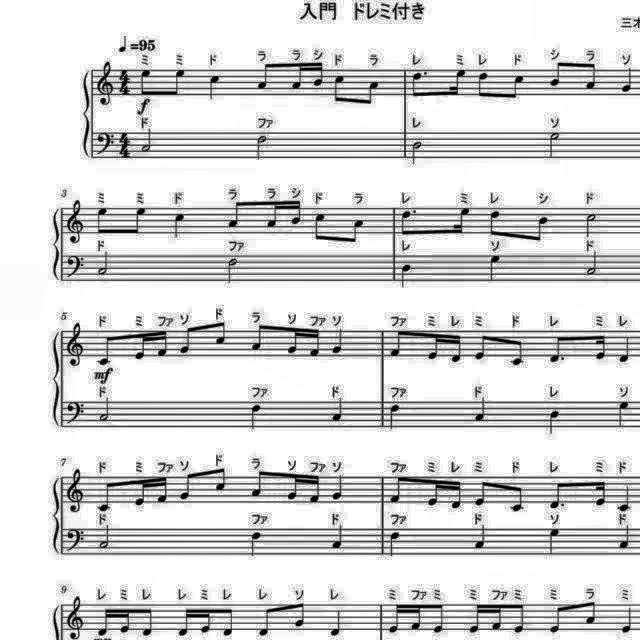Bass-clef: (64, 399, 88, 429), (64, 526, 88, 554), (64, 252, 88, 280), (95, 130, 116, 156)
Eighth-note: (92, 332, 116, 368), (94, 478, 115, 516), (344, 216, 368, 248), (528, 214, 552, 246), (548, 334, 572, 366), (129, 203, 151, 237), (223, 198, 245, 232), (396, 206, 419, 238), (310, 210, 330, 246), (257, 604, 277, 640), (548, 480, 570, 512), (509, 602, 527, 638), (548, 606, 568, 638), (506, 484, 526, 516), (506, 70, 526, 102), (470, 477, 490, 509), (506, 337, 526, 369), (90, 206, 110, 238), (250, 470, 270, 502), (256, 61, 276, 93), (360, 78, 380, 109), (139, 606, 157, 640), (218, 606, 236, 640), (331, 73, 349, 107), (469, 602, 486, 638), (172, 66, 190, 100), (175, 606, 193, 640), (388, 474, 407, 506), (548, 60, 568, 90), (486, 209, 506, 239), (137, 65, 155, 98), (429, 603, 446, 637), (177, 472, 195, 504), (177, 324, 195, 356), (289, 598, 307, 630), (471, 332, 489, 364), (411, 68, 429, 100), (473, 68, 491, 100), (251, 324, 269, 356), (388, 326, 406, 358), (212, 466, 230, 496), (212, 320, 230, 350), (583, 62, 601, 92), (583, 598, 601, 626)
Half-note: (582, 211, 602, 241), (546, 130, 566, 160), (224, 256, 243, 286), (95, 250, 113, 278), (96, 396, 114, 424), (255, 134, 273, 162), (583, 250, 601, 278), (409, 138, 426, 166), (138, 126, 154, 154), (98, 522, 114, 550)
Quarter-note: (616, 483, 636, 513), (486, 253, 506, 283), (329, 608, 347, 640), (619, 606, 637, 638), (470, 396, 490, 424), (616, 398, 634, 428), (206, 72, 224, 102), (171, 211, 189, 241), (247, 529, 265, 559), (546, 526, 564, 556), (384, 530, 401, 560), (473, 522, 491, 550), (330, 522, 348, 550), (546, 409, 564, 437), (328, 395, 346, 423), (332, 327, 348, 357), (398, 262, 414, 292), (618, 335, 634, 365), (248, 403, 264, 433), (332, 473, 348, 502), (620, 67, 636, 96), (386, 402, 402, 431), (618, 522, 634, 550)
Sixteenth-note: (451, 205, 474, 238), (132, 475, 152, 509), (446, 65, 466, 98), (384, 602, 402, 638), (92, 606, 111, 640), (263, 199, 283, 231), (449, 476, 466, 512), (133, 332, 151, 364), (283, 472, 301, 503), (153, 474, 169, 508), (449, 334, 466, 366), (592, 333, 610, 363), (424, 478, 441, 509), (424, 332, 441, 363), (410, 603, 426, 635), (152, 330, 168, 362), (490, 603, 506, 635), (306, 474, 322, 506), (306, 328, 322, 360), (116, 606, 132, 638), (288, 198, 304, 228), (288, 62, 304, 92), (284, 327, 300, 357), (593, 479, 609, 509), (200, 606, 214, 638), (312, 61, 326, 89)
Treble-clef: (94, 59, 118, 108), (64, 199, 88, 247), (64, 322, 88, 370), (64, 595, 88, 640), (66, 468, 88, 516)
